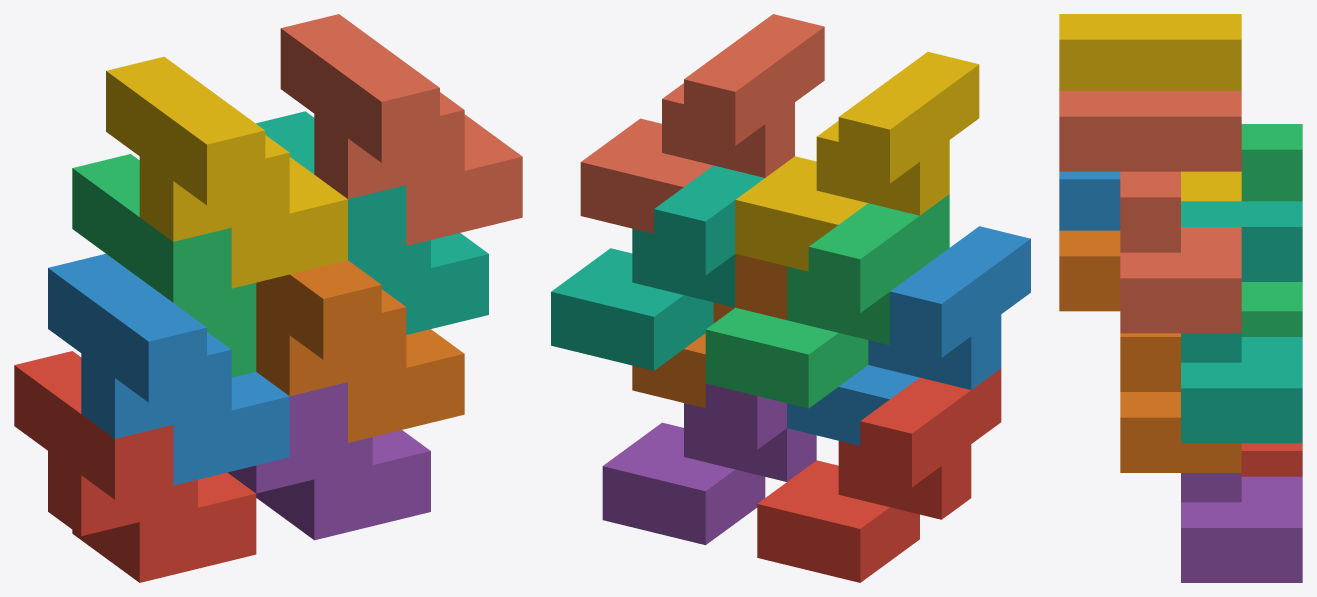
Rendered from tiling.obj.
3 renders of one model, left to right at view 1: azimuth 30°, elevation 25°; view 2: azimuth 150°, elevation 25°; view 3: azimuth 270°, elevation 25°, orthographic. The views are drawn at different scales.
Parts seen in each view (by area): view 1: copy_1_domain_8, copy_1_domain_4, copy_1_domain_2, copy_1_domain_1, copy_1_domain_6, copy_1_domain_5, copy_1_domain_3, copy_1_domain_7; view 2: copy_1_domain_1, copy_1_domain_4, copy_1_domain_8, copy_1_domain_3, copy_1_domain_7, copy_1_domain_2, copy_1_domain_5, copy_1_domain_6; view 3: copy_1_domain_8, copy_1_domain_7, copy_1_domain_4, copy_1_domain_6, copy_1_domain_5, copy_1_domain_3, copy_1_domain_2, copy_1_domain_1.
Boxes of the visible parts, <box> form: copy_1_domain_8: <box>280,14,522,245</box>; copy_1_domain_4: <box>106,56,347,288</box>; copy_1_domain_2: <box>48,253,289,485</box>; copy_1_domain_1: <box>14,351,256,582</box>; copy_1_domain_6: <box>256,260,464,442</box>; copy_1_domain_5: <box>227,382,430,540</box>; copy_1_domain_3: <box>72,154,256,377</box>; copy_1_domain_7: <box>256,111,488,334</box>; copy_1_domain_1: <box>757,368,1001,582</box>; copy_1_domain_4: <box>735,52,979,271</box>; copy_1_domain_8: <box>580,14,824,233</box>; copy_1_domain_3: <box>705,194,949,408</box>; copy_1_domain_7: <box>551,165,764,370</box>; copy_1_domain_2: <box>787,226,1030,445</box>; copy_1_domain_5: <box>602,383,816,545</box>; copy_1_domain_6: <box>632,254,786,408</box>; copy_1_domain_8: <box>1059,91,1241,333</box>; copy_1_domain_7: <box>1181,201,1302,443</box>; copy_1_domain_4: <box>1059,14,1241,201</box>; copy_1_domain_6: <box>1059,230,1241,472</box>; copy_1_domain_5: <box>1181,473,1302,582</box>; copy_1_domain_3: <box>1241,124,1302,336</box>; copy_1_domain_2: <box>1059,171,1120,230</box>; copy_1_domain_1: <box>1241,443,1302,476</box>.
Bounding box in the file's own units: 7 × 8 × 4.
